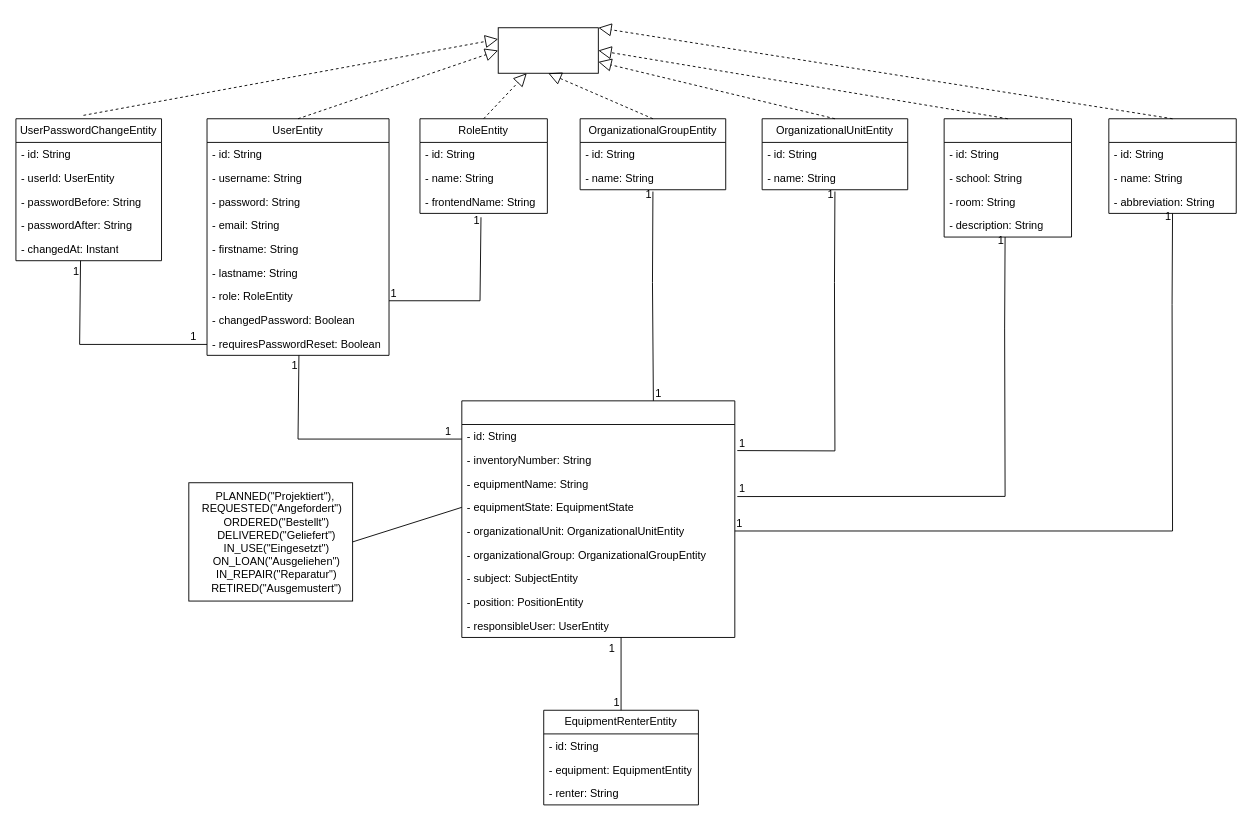
Image size: 1252x824. Some labels were removed from this diagram. The shapes that lost their labels are listed below. From the top down, each one's box as (x1, y1, x2, y2) in pixels, then its label:
(497, 27, 598, 73): «interface» IHasId
(943, 118, 1072, 237): PositionEntity
(1108, 118, 1236, 213): SubjectEntity
(461, 400, 735, 637): EquimentEntity
